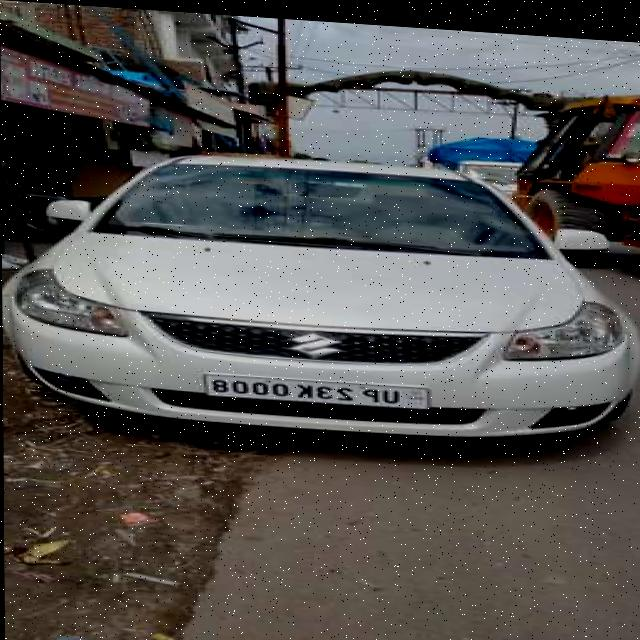plate: (203, 369, 430, 406)
